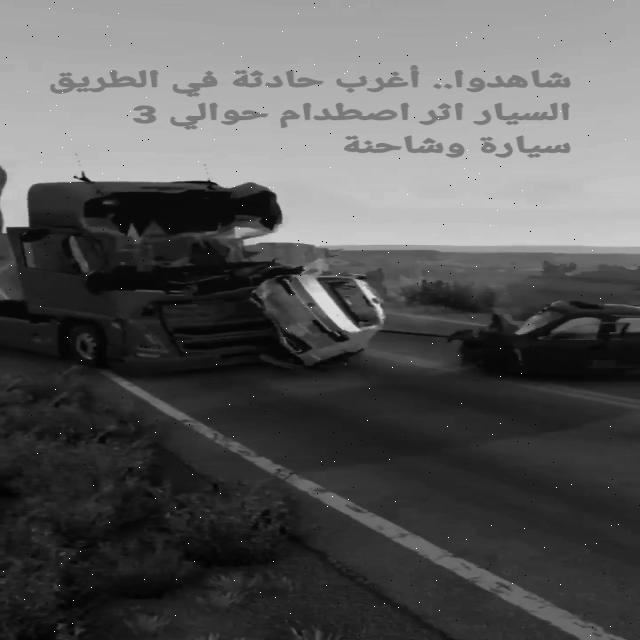accident: (0, 177, 391, 372)
